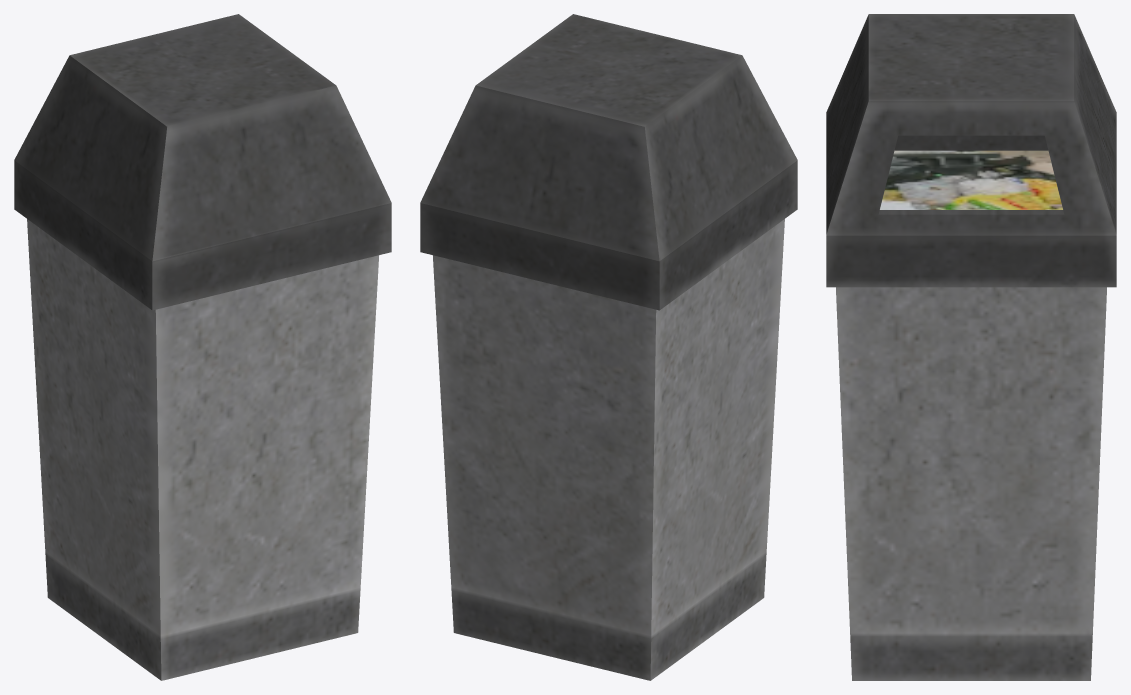
The model's file is Trash_Can.dae.
3 renders of one model, left to right at view 1: azimuth 30°, elevation 25°; view 2: azimuth 150°, elevation 25°; view 3: azimuth 270°, elevation 25°, orthographic. The views are drawn at different scales.
Parts seen in each view (by area): view 1: Trash_Can; view 2: Trash_Can; view 3: Trash_Can.
Boxes of the visible parts, x1=… form: Trash_Can: x1=14, y1=14, x2=391, y2=680; Trash_Can: x1=420, y1=14, x2=797, y2=680; Trash_Can: x1=826, y1=14, x2=1116, y2=680.
Bounding box in the file's own units: 0.6597 × 0.6597 × 1.44.
1 material, 1 textured.
